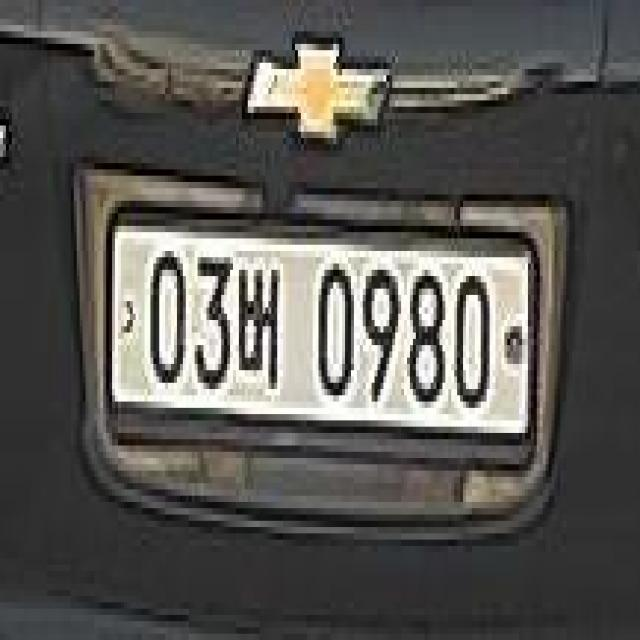illegal_plate: (99, 202, 537, 484)
